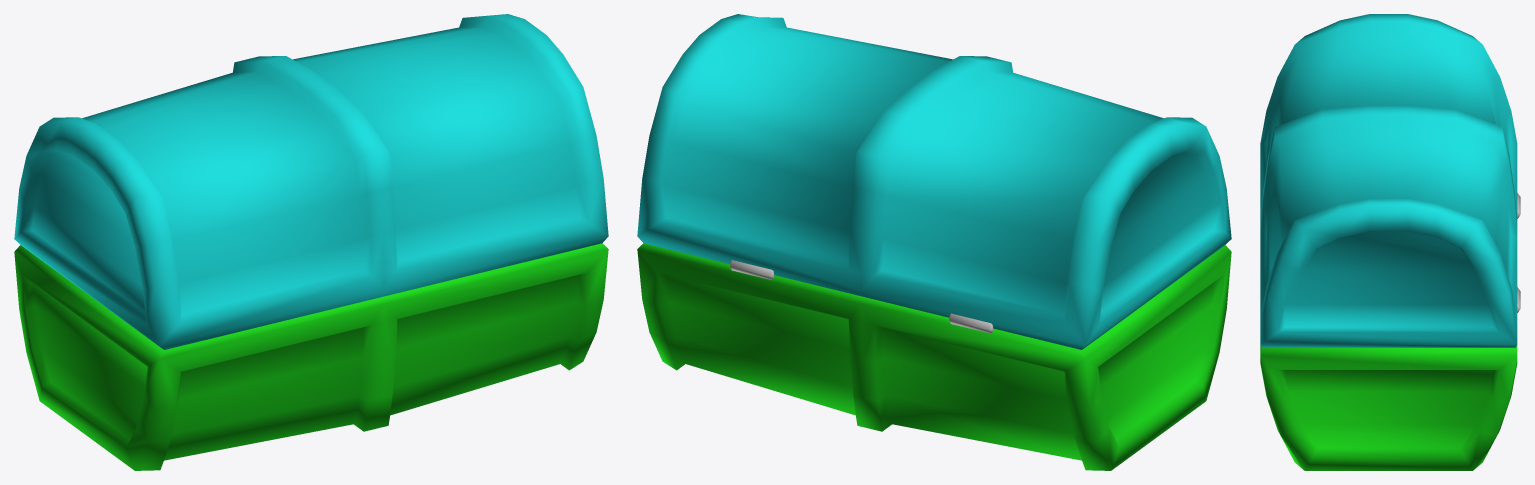
The model's file is dfk_chest_03_closed.fbx.
3 renders of one model, left to right at view 1: azimuth 30°, elevation 25°; view 2: azimuth 150°, elevation 25°; view 3: azimuth 270°, elevation 25°, orthographic. The views are drawn at different scales.
Parts seen in each view (by area): view 1: Chest_03.001; view 2: Chest_03.001; view 3: Chest_03.001.
Boxes of the visible parts, x1,y1,x2,y2 form: Chest_03.001: (14, 14, 608, 470); Chest_03.001: (637, 14, 1231, 470); Chest_03.001: (1260, 14, 1520, 470).
Bounding box in the file's own units: 0.915 × 0.5746 × 0.5137.
